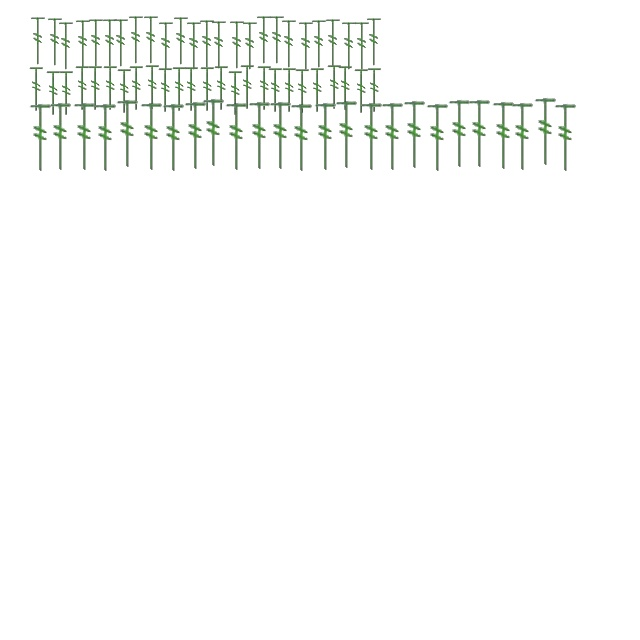fan: (28, 103, 52, 173), (48, 102, 72, 172), (72, 102, 96, 172), (93, 103, 117, 173), (115, 99, 139, 169), (139, 102, 163, 172), (161, 103, 185, 173), (183, 101, 207, 171), (201, 98, 225, 168), (224, 102, 248, 172), (247, 101, 271, 171), (268, 101, 292, 171), (289, 103, 313, 173), (313, 102, 337, 172), (334, 100, 358, 170), (359, 102, 383, 172), (380, 102, 404, 172), (402, 100, 426, 170), (425, 103, 449, 173), (447, 99, 471, 169), (467, 99, 491, 169), (491, 101, 515, 171), (510, 102, 534, 172), (533, 97, 557, 167), (553, 103, 577, 173), (29, 15, 47, 67), (46, 16, 64, 68), (57, 20, 75, 72), (74, 18, 92, 70), (87, 17, 105, 69), (101, 17, 119, 69), (112, 17, 130, 69), (127, 14, 145, 66), (142, 14, 160, 66), (157, 20, 175, 72), (172, 15, 190, 67), (185, 20, 203, 72), (198, 18, 216, 70), (210, 19, 228, 71), (228, 19, 246, 71), (241, 20, 259, 72), (255, 14, 273, 66), (268, 14, 286, 66), (280, 18, 298, 70), (297, 20, 315, 72), (310, 18, 328, 70), (324, 17, 342, 69), (340, 20, 358, 72), (353, 20, 371, 72), (365, 16, 383, 68), (28, 66, 46, 112), (58, 70, 76, 116), (74, 65, 92, 111), (102, 65, 120, 111), (116, 68, 134, 114), (128, 65, 146, 111), (144, 64, 162, 110), (256, 65, 274, 111), (294, 68, 312, 114), (326, 64, 344, 110), (366, 67, 384, 113), (46, 70, 62, 116), (88, 65, 104, 111), (158, 67, 174, 113), (172, 66, 188, 112), (184, 66, 200, 112), (200, 66, 216, 112), (214, 65, 230, 111), (228, 70, 244, 116), (240, 64, 256, 110), (268, 67, 284, 113), (282, 67, 298, 113), (310, 67, 326, 113), (338, 65, 354, 111), (354, 68, 370, 114)
